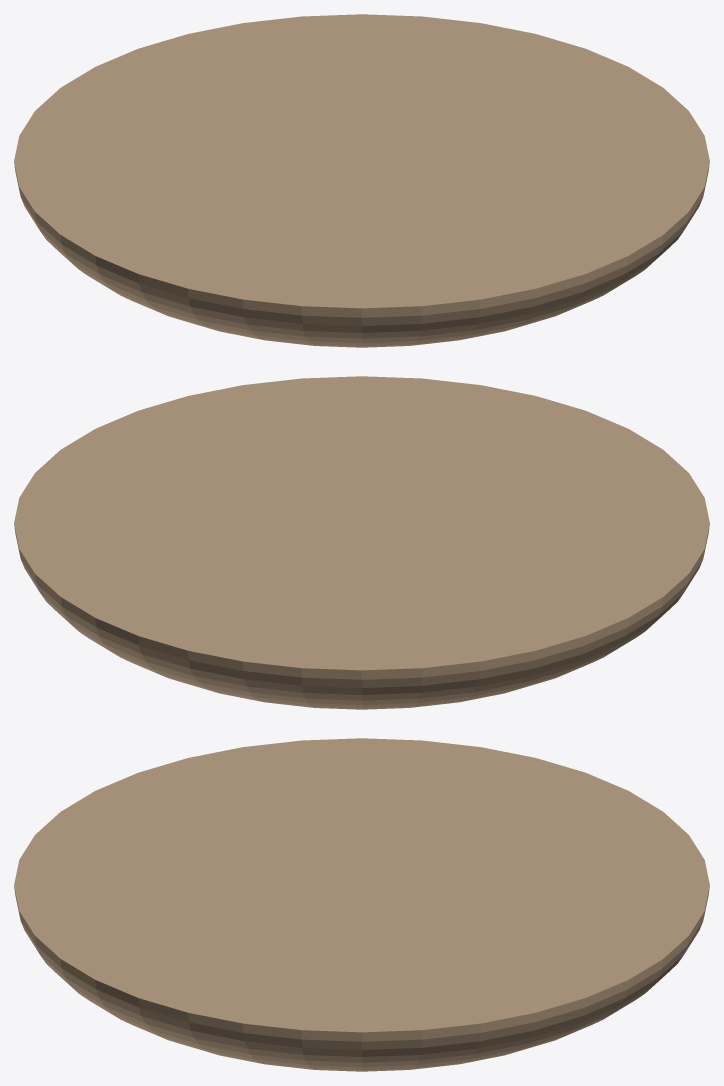
The model's file is burga.glb.
3 views of the same model, one above another, from view 1: azimuth 30°, elevation 25°; view 2: azimuth 150°, elevation 25°; view 3: azimuth 270°, elevation 25° (orthographic).
Parts seen in each view (by area): view 1: Mesh_Mesh_head_geo.001_lambert2SG.001; view 2: Mesh_Mesh_head_geo.001_lambert2SG.001; view 3: Mesh_Mesh_head_geo.001_lambert2SG.001.
Boxes of the visible parts, bbox=[...] form: Mesh_Mesh_head_geo.001_lambert2SG.001: bbox=[14, 14, 709, 347]; Mesh_Mesh_head_geo.001_lambert2SG.001: bbox=[14, 376, 709, 709]; Mesh_Mesh_head_geo.001_lambert2SG.001: bbox=[14, 738, 709, 1071].
Size of the model in its own units: 0.022 by 0.004 by 0.022.
